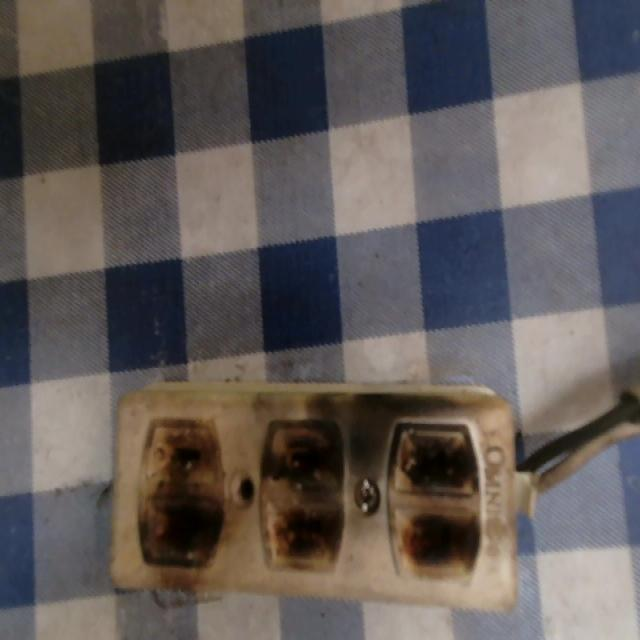-: (390, 417, 485, 579), (258, 416, 351, 575), (138, 420, 227, 565)
